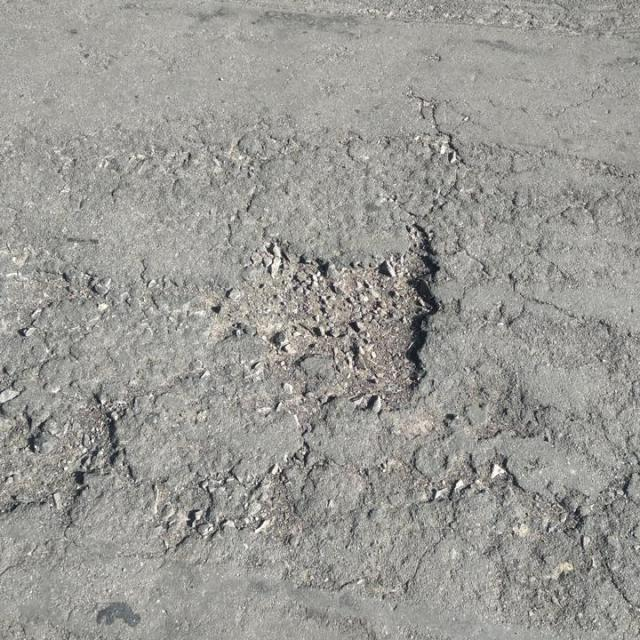buraco: (234, 220, 452, 412), (227, 221, 434, 419), (0, 394, 118, 521), (46, 396, 126, 508)
